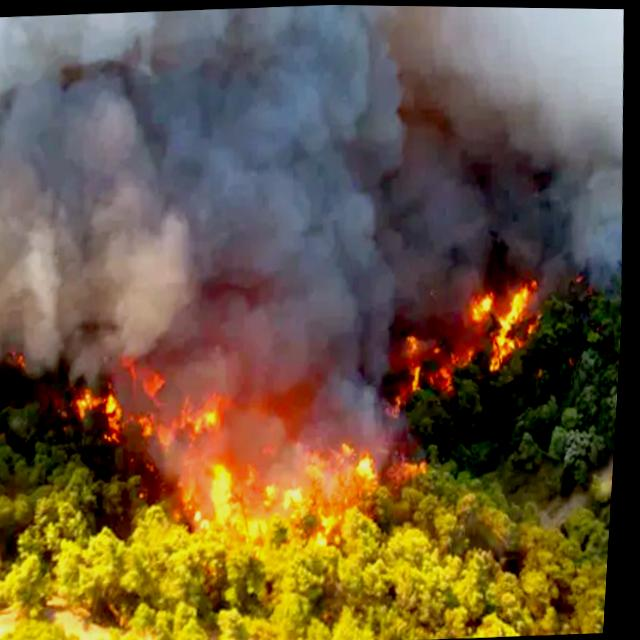Smoke: (0, 0, 640, 500)
